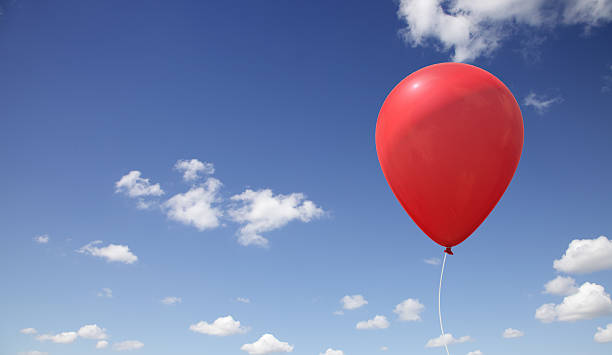Balloon: (374, 62, 525, 250)
